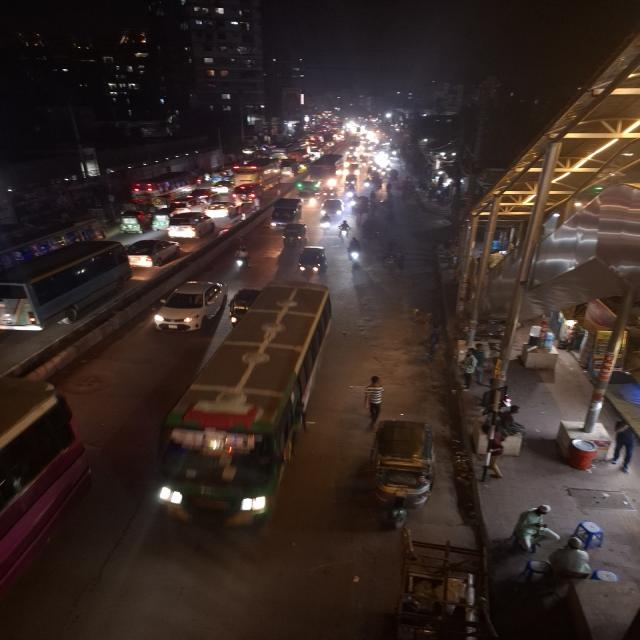bus: (0, 241, 127, 334), (0, 215, 107, 264), (130, 171, 197, 199), (304, 154, 346, 192), (232, 158, 280, 185)
car: (150, 277, 227, 333), (130, 170, 198, 200), (124, 237, 184, 269), (166, 211, 217, 240), (168, 194, 213, 210), (172, 189, 216, 205), (231, 183, 265, 203), (318, 198, 345, 220), (204, 201, 233, 217)
cng: (368, 416, 441, 528), (297, 244, 327, 280), (115, 210, 145, 234), (149, 208, 171, 230), (279, 160, 298, 178)
motorcycle: (228, 242, 252, 276), (346, 237, 366, 270), (236, 198, 259, 222), (336, 219, 352, 243)
pedestrian: (348, 372, 393, 426)
rickshaw: (116, 209, 146, 233), (351, 193, 374, 214)
truck: (152, 280, 344, 536), (268, 197, 304, 229)
